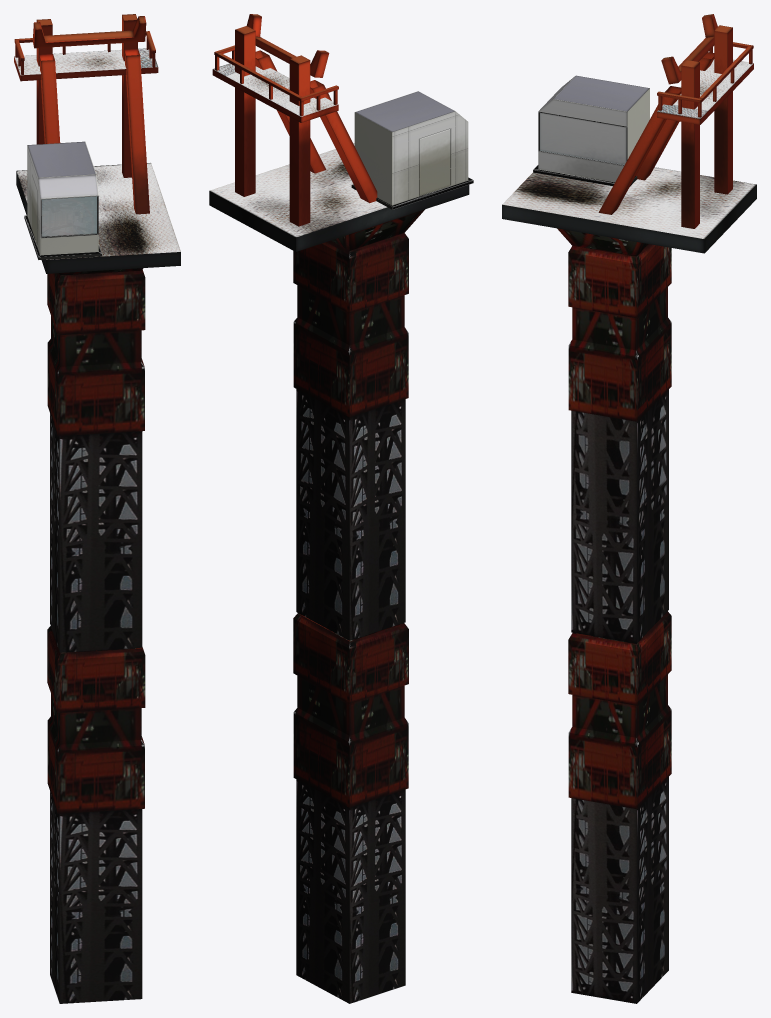
Rendered from kure-ndodai2f1.obj.
3 views of the same model, side by side, from view 1: azimuth 30°, elevation 25°; view 2: azimuth 150°, elevation 25°; view 3: azimuth 270°, elevation 25° (orthographic). The views are drawn at different scales.
Bounding box in the file's own units: 10.78 × 52.27 × 12.58.
Materials: 1 (1 with a texture image).
